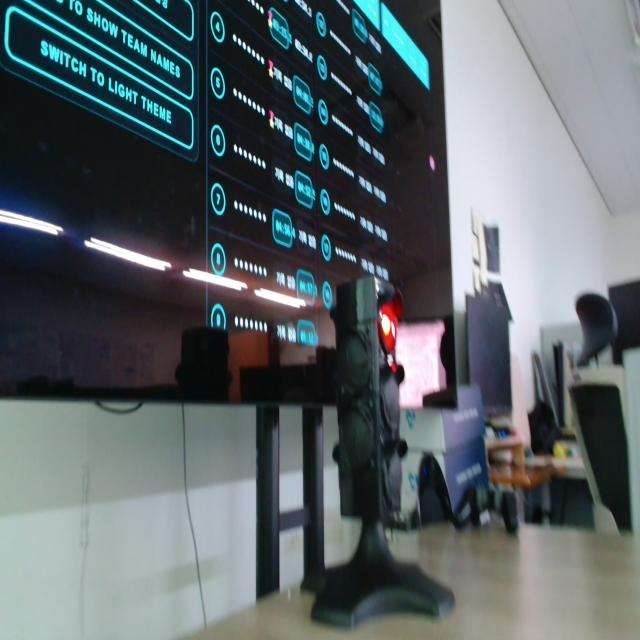red_light: (380, 302, 397, 353)
